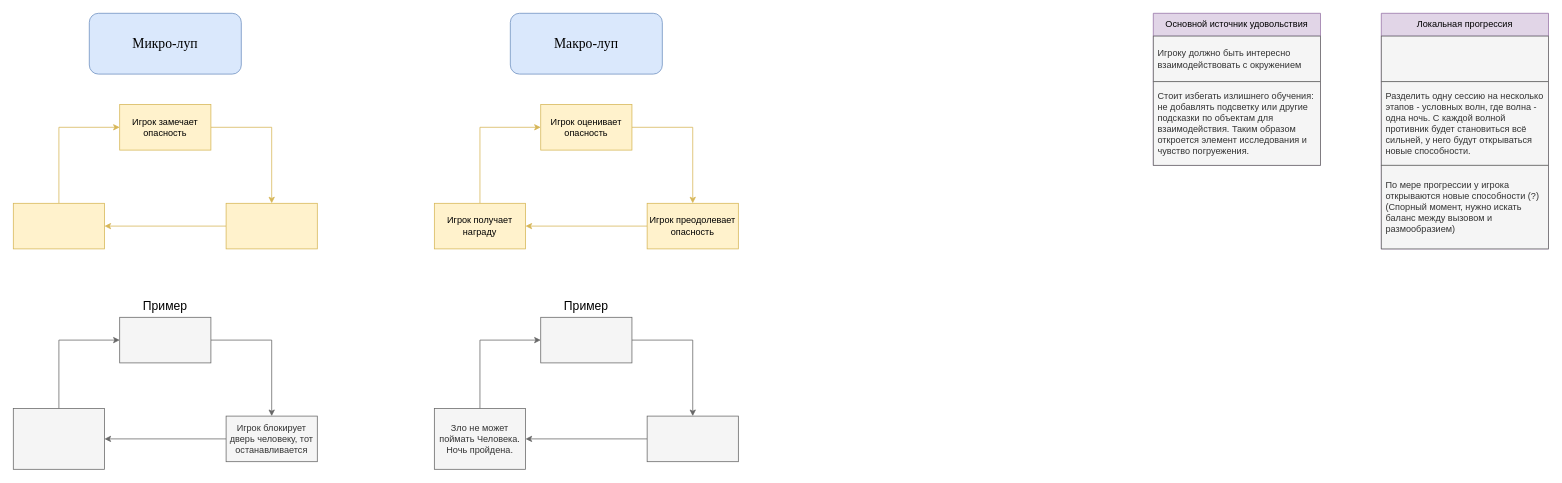
Some shapes in this 1562 by 483 pixel diagram are drawn without their labels. The shapes that lost their labels are listed below. From the top down, each one's centre as x and y in pixels, then its label:
(x=1464, y=58): У игрока должно быть чуство роста по мере прохождения уровня.
(x=58, y=226): Противник в ступоре, даёт передышку
(x=271, y=226): Игрок избегает опасности
(x=165, y=340): Зло и Человек идут в одну комнату
(x=586, y=340): Игрок определяет тип врага как "Демон"
(x=58, y=438): Зло в комнате назначения стоит в ступоре, думает над дальнейшими действиями
(x=692, y=438): Игрок ставит специальные ловушки только для данного типа врагов
